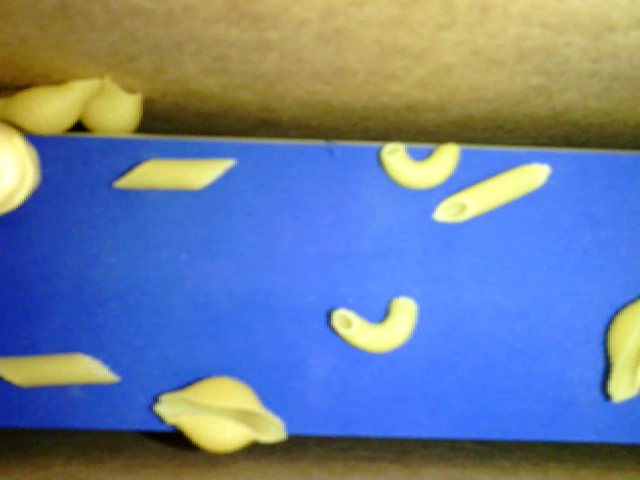elbow: (327, 295, 415, 355), (378, 133, 460, 191)
penne: (432, 161, 552, 224), (110, 156, 236, 192), (1, 356, 120, 383)
shell: (155, 374, 293, 458), (1, 72, 105, 136), (598, 294, 639, 404), (82, 76, 144, 134)
tortellini: (1, 121, 45, 217)
